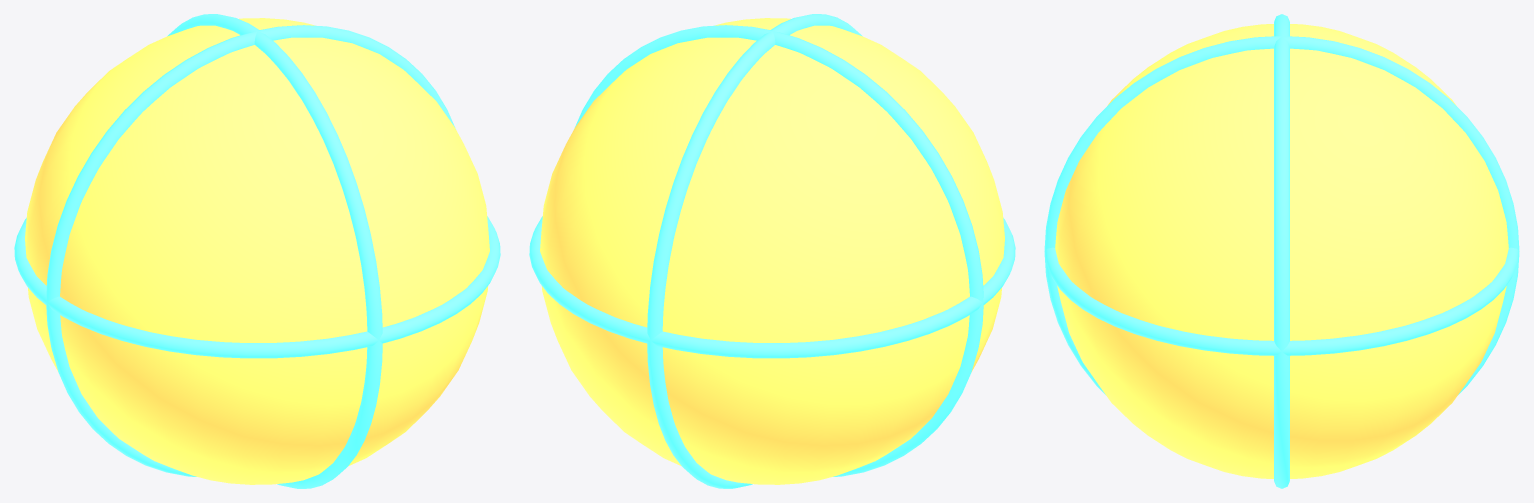
Rendered from relay-ball.glb.
The picture shows the model from 3 angles, left to right: view 1: azimuth 30°, elevation 25°; view 2: azimuth 150°, elevation 25°; view 3: azimuth 270°, elevation 25°; orthographic projection. The views are drawn at different scales.
Visible parts, largest first — view 1: Amber core, Cyan seam, Cyan seam.001, Equator; view 2: Amber core, Cyan seam, Cyan seam.001, Equator; view 3: Amber core, Cyan seam.001, Equator, Cyan seam.
Boxes of the visible parts, left/top/right/bottom form: Amber core: left=25, top=18, right=489, bottom=484; Cyan seam: left=46, top=25, right=455, bottom=476; Cyan seam.001: left=167, top=14, right=382, bottom=488; Equator: left=14, top=216, right=500, bottom=358; Amber core: left=540, top=18, right=1004, bottom=484; Cyan seam: left=574, top=25, right=983, bottom=476; Cyan seam.001: left=647, top=14, right=862, bottom=488; Equator: left=529, top=216, right=1015, bottom=358; Amber core: left=1055, top=24, right=1508, bottom=478; Cyan seam.001: left=1044, top=36, right=1519, bottom=394; Equator: left=1044, top=247, right=1519, bottom=355; Cyan seam: left=1274, top=14, right=1289, bottom=488.
Size of the model in its own units: 0.708 by 0.708 by 0.708.
